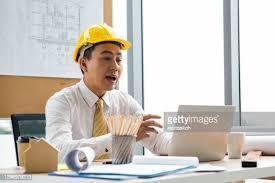helmet: (73, 23, 132, 62)
